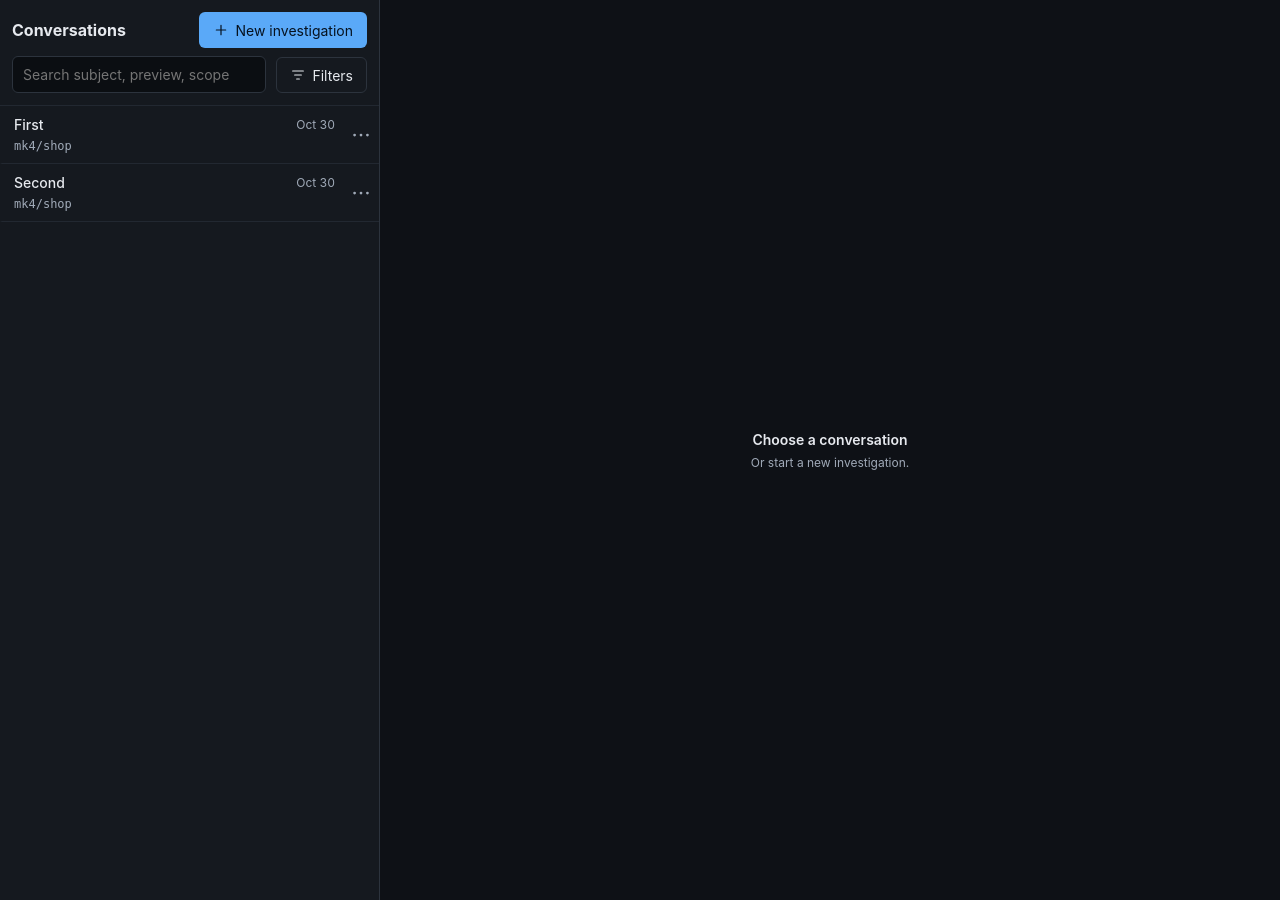
Test case: workspace › lists and filters conversations
The width and height of the screenshot is (1280, 900).
Expected: the text "First" is shown, [14,116,44,133]
Type "sec" into the search field named "Search conversations". click: (139, 74)
box: [12,56,266,93]
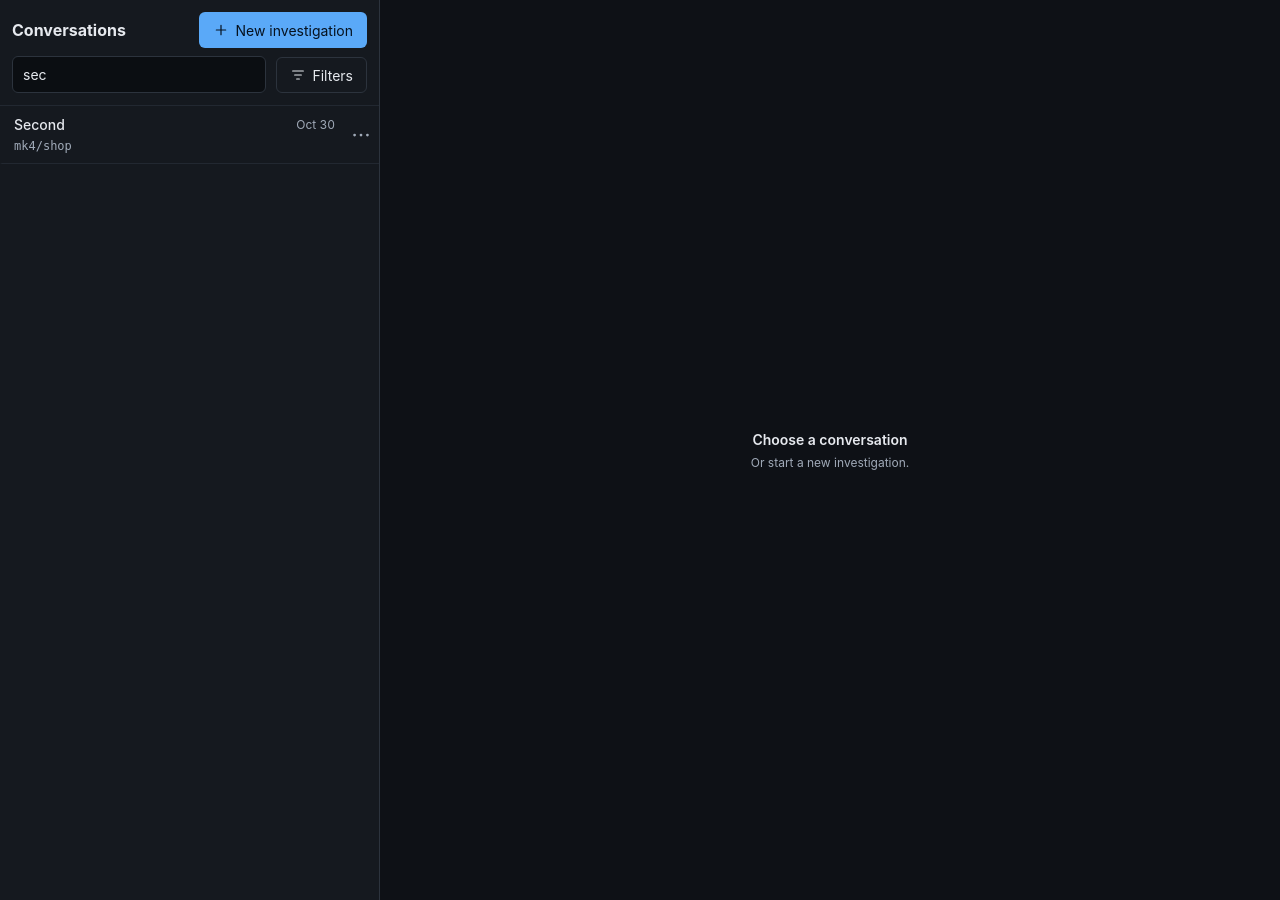
Expected: the text "Second" is shown, [14,116,65,133]
Now the link "First" is gone
